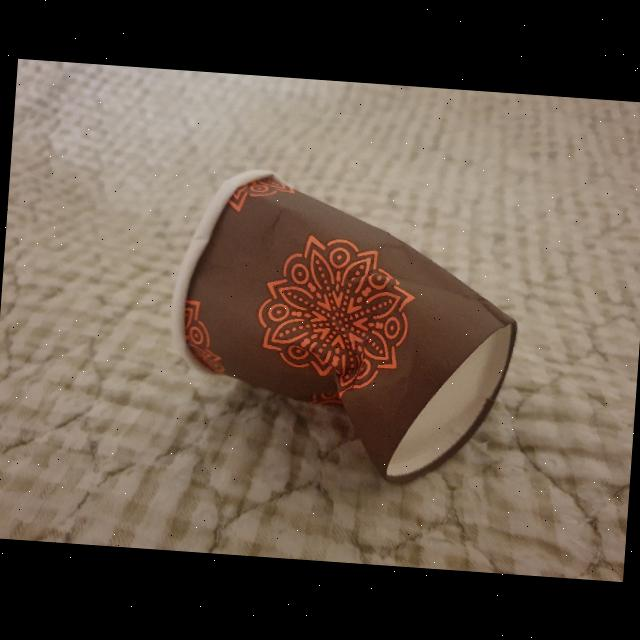trash: (145, 147, 541, 500)
